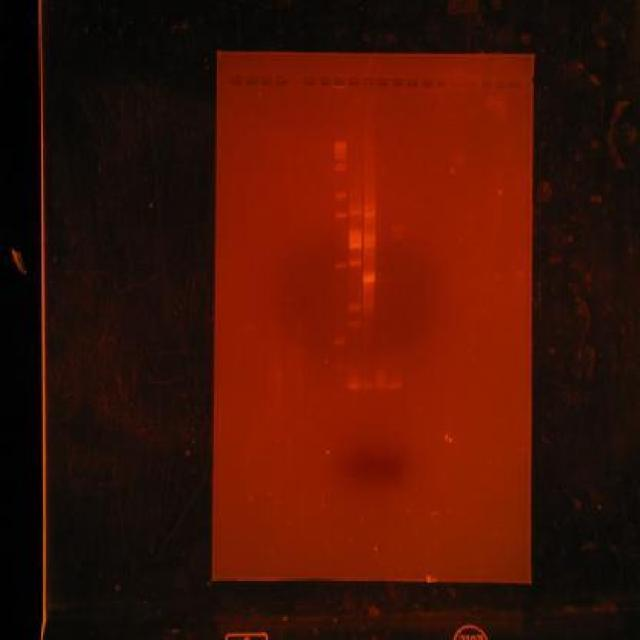B: (361, 272, 377, 286), (363, 230, 377, 242), (348, 303, 362, 314), (346, 382, 360, 392), (389, 232, 406, 240), (388, 381, 403, 390), (348, 318, 360, 329), (360, 382, 374, 391), (374, 381, 388, 390), (348, 258, 362, 267), (348, 241, 362, 250), (363, 210, 377, 218), (362, 242, 376, 250), (348, 208, 362, 216), (389, 226, 406, 232), (348, 236, 362, 242)
L: (227, 70, 522, 93)
M: (330, 134, 348, 412)
P: (334, 162, 348, 173), (334, 212, 348, 220), (334, 192, 348, 200), (332, 338, 346, 346), (332, 362, 346, 370), (332, 376, 346, 384), (333, 142, 347, 150), (332, 391, 346, 398), (333, 154, 347, 160), (333, 262, 347, 268), (334, 150, 348, 155)
Pc: (448, 77, 464, 91), (346, 77, 362, 91), (273, 75, 289, 88), (229, 73, 243, 87), (244, 74, 258, 88), (259, 74, 273, 88), (332, 76, 346, 90), (362, 76, 376, 90), (406, 76, 420, 90), (376, 76, 390, 90), (463, 78, 479, 90), (302, 76, 318, 87), (434, 78, 448, 90), (508, 78, 521, 90), (318, 76, 332, 87), (479, 79, 493, 90), (420, 78, 434, 89), (390, 78, 404, 89), (496, 78, 506, 91)
